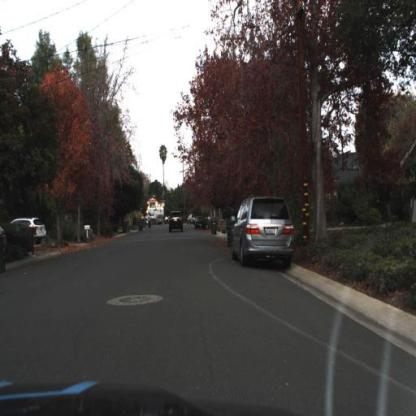car: (230, 194, 294, 270), (8, 219, 48, 250), (25, 215, 50, 243), (166, 210, 187, 236), (195, 216, 208, 232)
